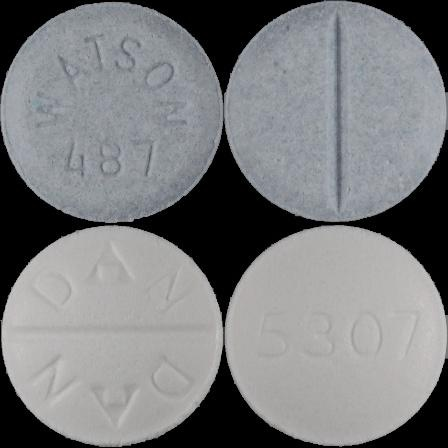49999-083: (0, 0, 224, 224)
